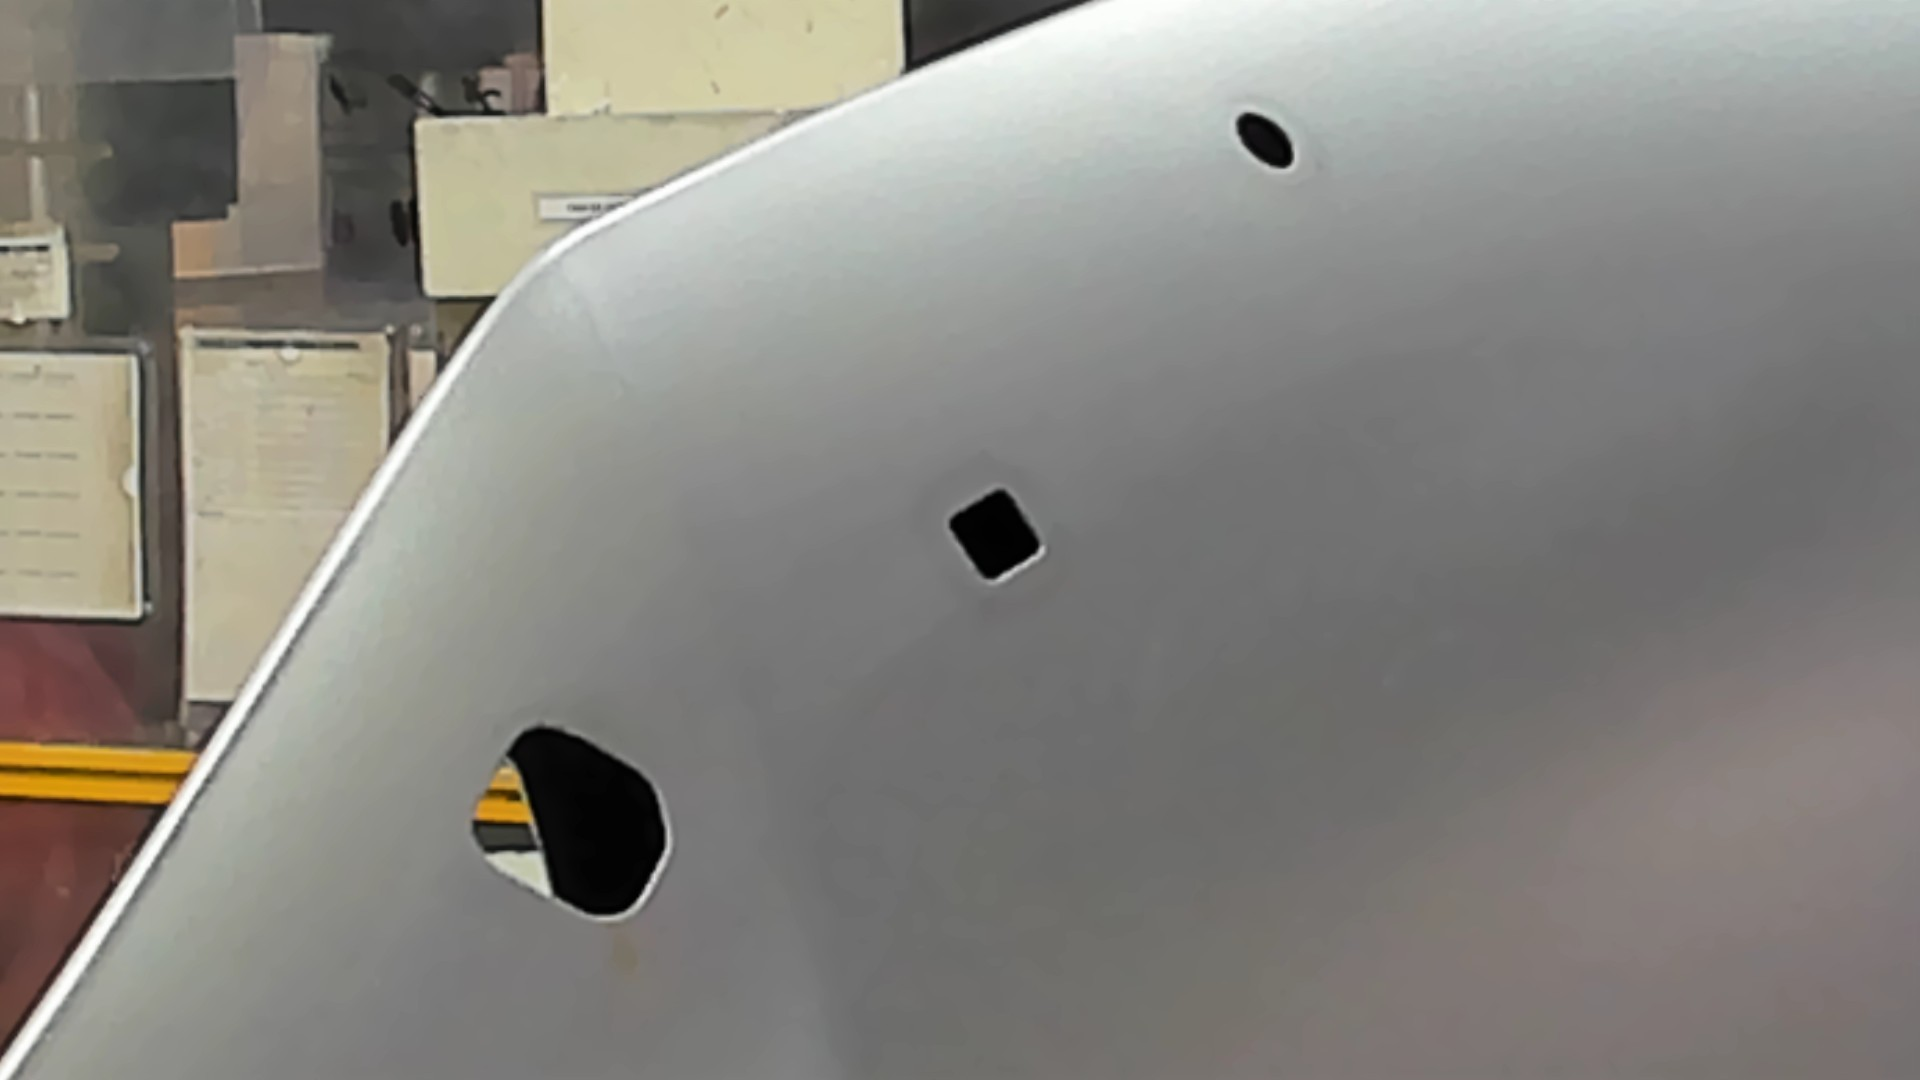chico: (1230, 103, 1298, 178)
grande: (464, 719, 682, 935)
mediano: (945, 485, 1048, 587)
